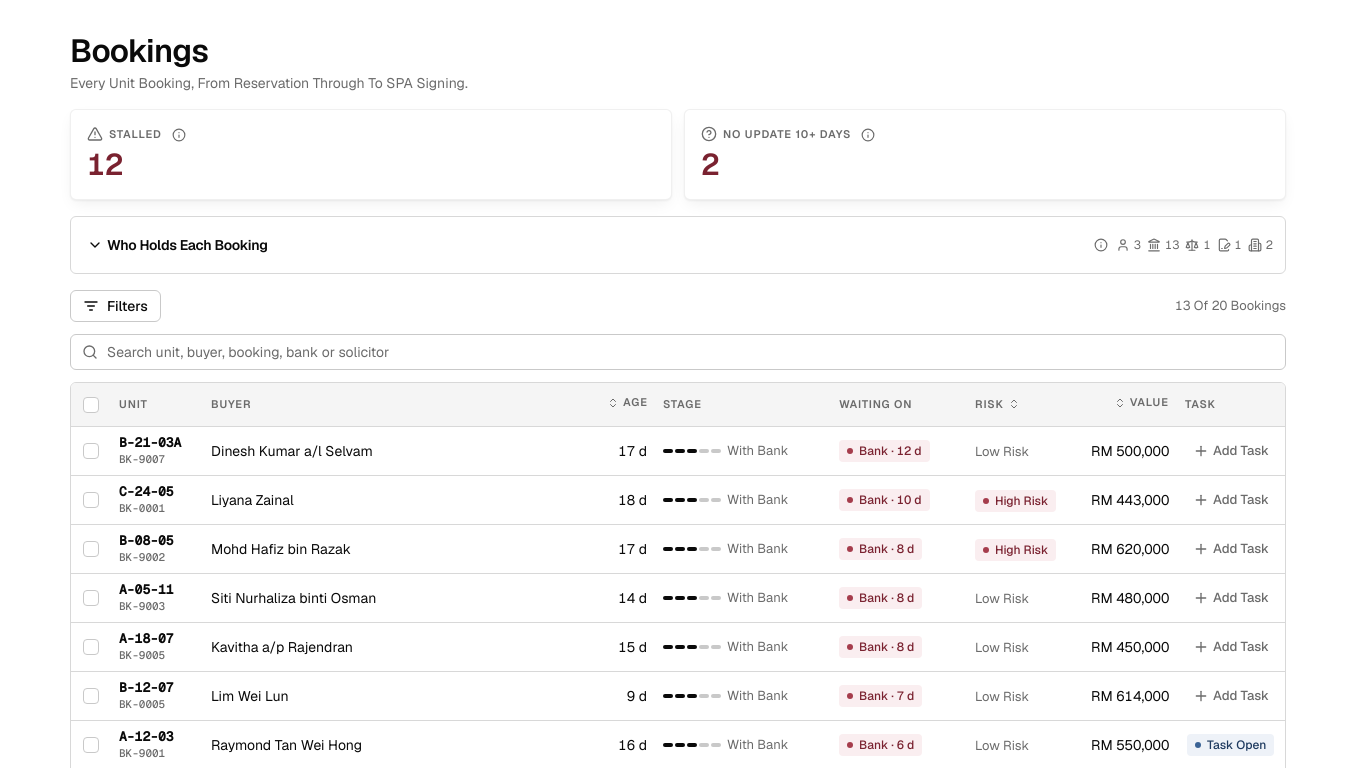
Scenario: BookingsPage › opens a quick view from the Waiting On cell and stays on the table
Expected: the text "BK-9001" is shown, x1=119 y1=746 x2=165 y2=760
Click the button with aria-label "Quick View A-12-03: Waiting On" at {"x": 881, "y": 745}, box x1=835 y1=732 x2=926 y2=758
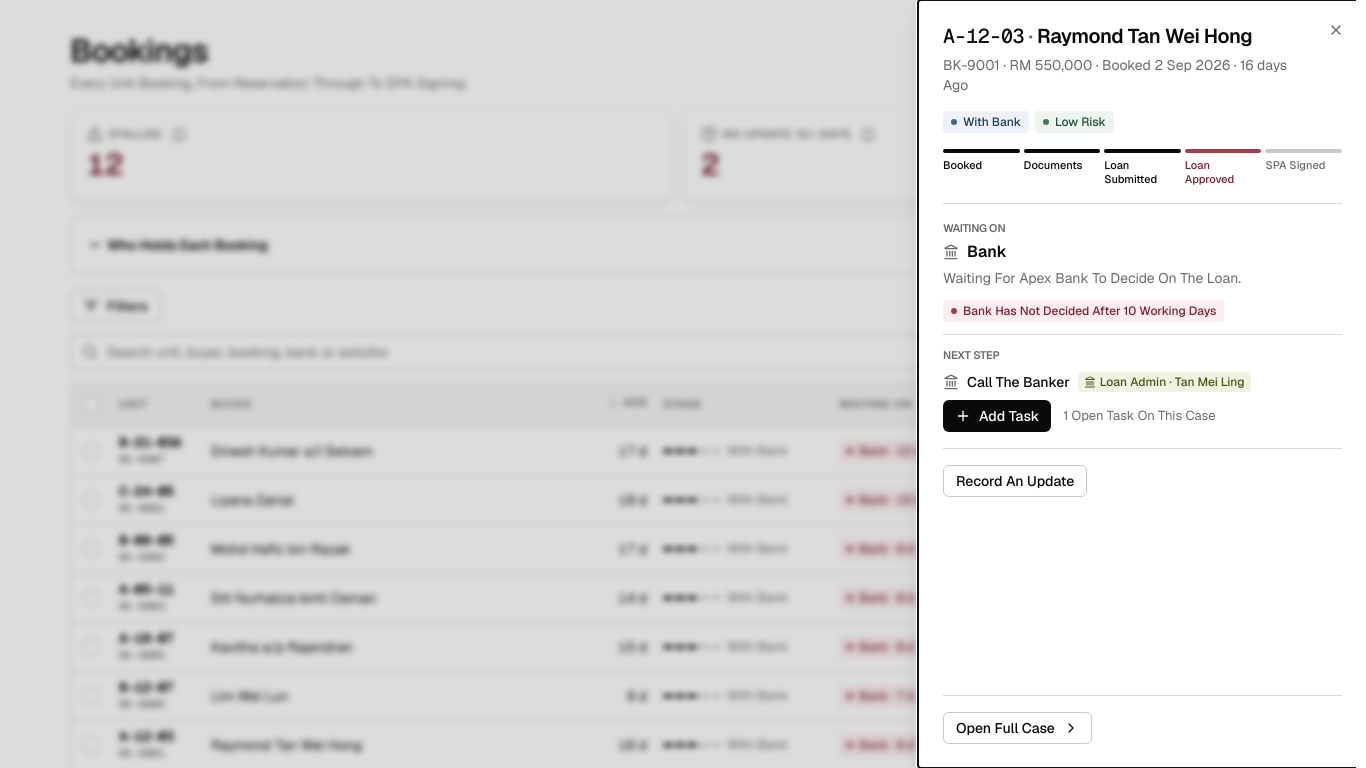
Now the dialog is shown, box x1=918 y1=0 x2=1365 y2=767
Now the heading "Waiting On" is shown, box x1=943 y1=220 x2=1005 y2=234
Now the heading "Next Step" is shown, box x1=943 y1=348 x2=1000 y2=362
